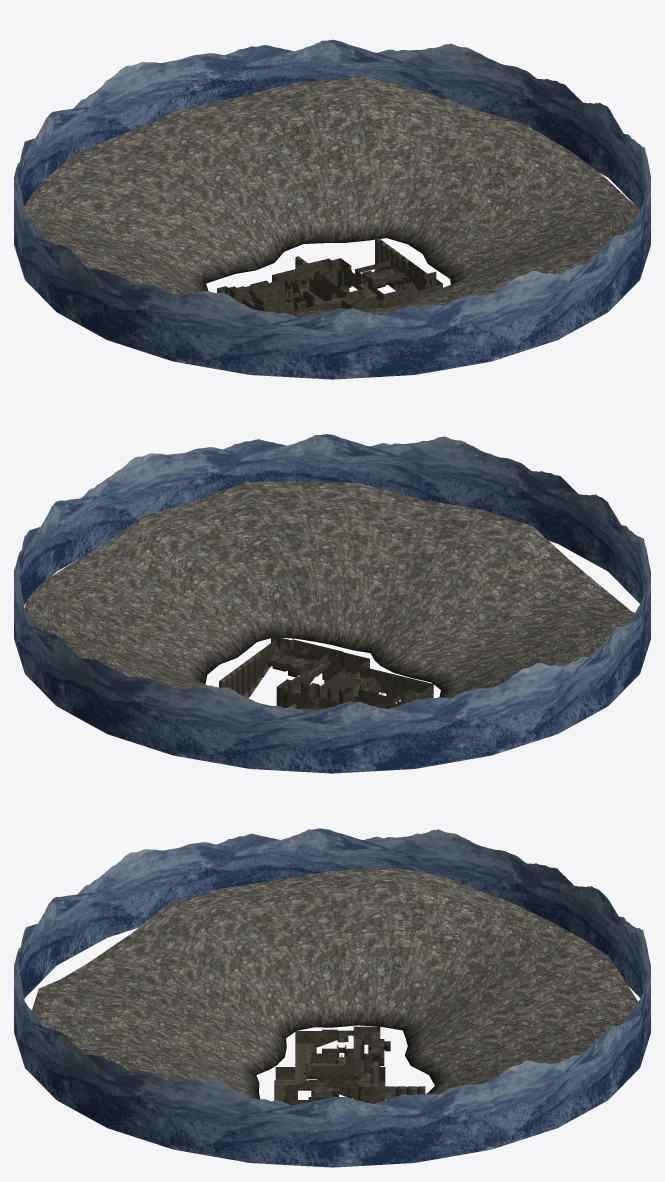
3 renders of one model, top to bottom at view 1: azimuth 30°, elevation 25°; view 2: azimuth 150°, elevation 25°; view 3: azimuth 270°, elevation 25°, orthographic.
Visible parts, largest first — view 1: Chunk-25_Mesh-0, Chunk-26_Mesh-0, Chunk-2_Mesh-0, Chunk-9_Mesh-0, Chunk-5_Mesh-0, Chunk-0_Mesh-1, Chunk-8_Mesh-0, Chunk-3_Mesh-0, Chunk-14_Mesh-0, Chunk-13_Mesh-0; view 2: Chunk-25_Mesh-0, Chunk-26_Mesh-0, Chunk-0_Mesh-1, Chunk-8_Mesh-0, Chunk-5_Mesh-0, Chunk-9_Mesh-0, Chunk-2_Mesh-0, Chunk-3_Mesh-0, Chunk-13_Mesh-0; view 3: Chunk-25_Mesh-0, Chunk-26_Mesh-0, Chunk-9_Mesh-0, Chunk-8_Mesh-0, Chunk-3_Mesh-0, Chunk-14_Mesh-0, Chunk-11_Mesh-0, Chunk-7_Mesh-0.
Boxes of the visible parts, x1,y1,x2,y2 form: Chunk-25_Mesh-0: (24,76,640,317); Chunk-26_Mesh-0: (14,39,650,379); Chunk-2_Mesh-0: (385,260,442,302); Chunk-9_Mesh-0: (276,277,334,308); Chunk-5_Mesh-0: (340,286,402,308); Chunk-0_Mesh-1: (374,237,432,290); Chunk-8_Mesh-0: (242,290,309,314); Chunk-3_Mesh-0: (310,258,351,292); Chunk-14_Mesh-0: (217,281,280,307); Chunk-13_Mesh-0: (341,261,390,292); Chunk-25_Mesh-0: (25,481,634,711); Chunk-26_Mesh-0: (14,434,650,773); Chunk-0_Mesh-1: (219,640,277,698); Chunk-8_Mesh-0: (379,674,433,704); Chunk-5_Mesh-0: (315,646,365,680); Chunk-9_Mesh-0: (329,672,384,703); Chunk-2_Mesh-0: (261,634,320,664); Chunk-3_Mesh-0: (276,678,317,708); Chunk-13_Mesh-0: (266,654,325,691); Chunk-25_Mesh-0: (32,867,637,1099); Chunk-26_Mesh-0: (14,828,650,1167); Chunk-9_Mesh-0: (308,1047,369,1086); Chunk-8_Mesh-0: (295,1029,350,1064); Chunk-3_Mesh-0: (351,1076,385,1103); Chunk-14_Mesh-0: (351,1026,380,1072); Chunk-11_Mesh-0: (308,1068,356,1080); Chunk-7_Mesh-0: (275,1063,308,1082).
Size of the model in its own units: 48076 by 14800 by 48076.
14 materials, 14 textured.
